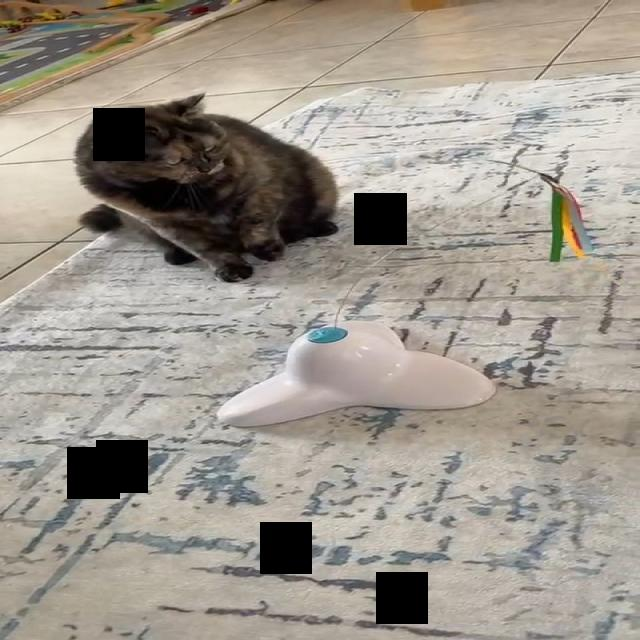authorized: (72, 91, 340, 282)
